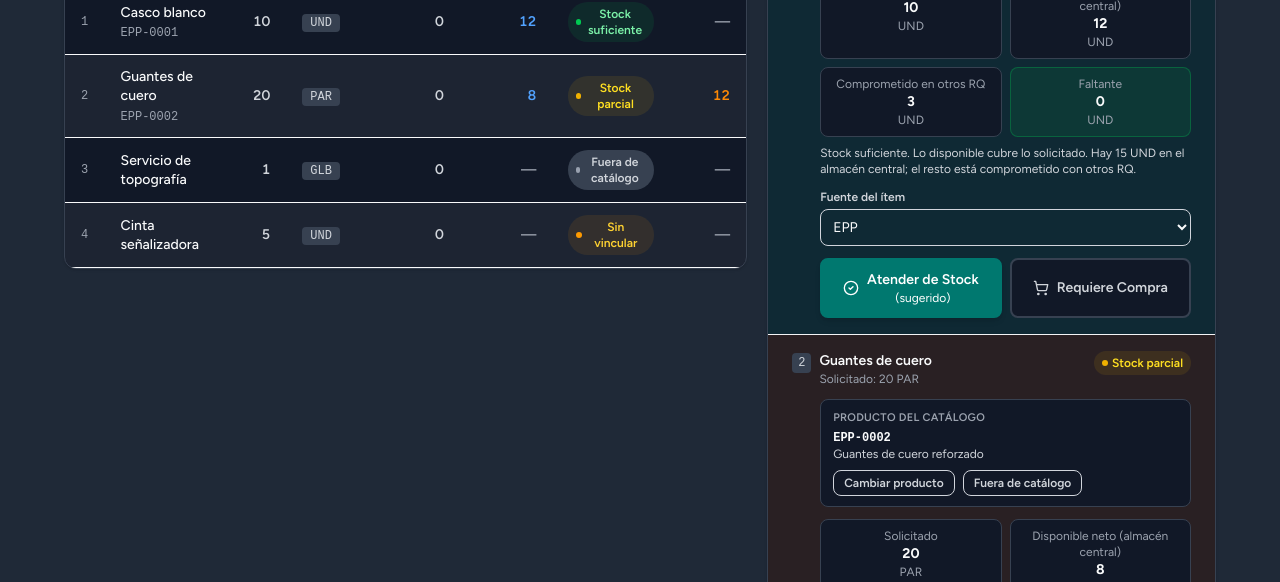
Test: LogisticsActionPage — stock sin cobertura completa (aviso, no bloqueo) › si marca "todo de stock" con ítems no cubiertos avisa en pantalla y pide confirmación explícita
(page scrolled)
Click the button "Atender de Stock (sugerido)": (911, 288) [820,258,1002,318]
(page scrolled)
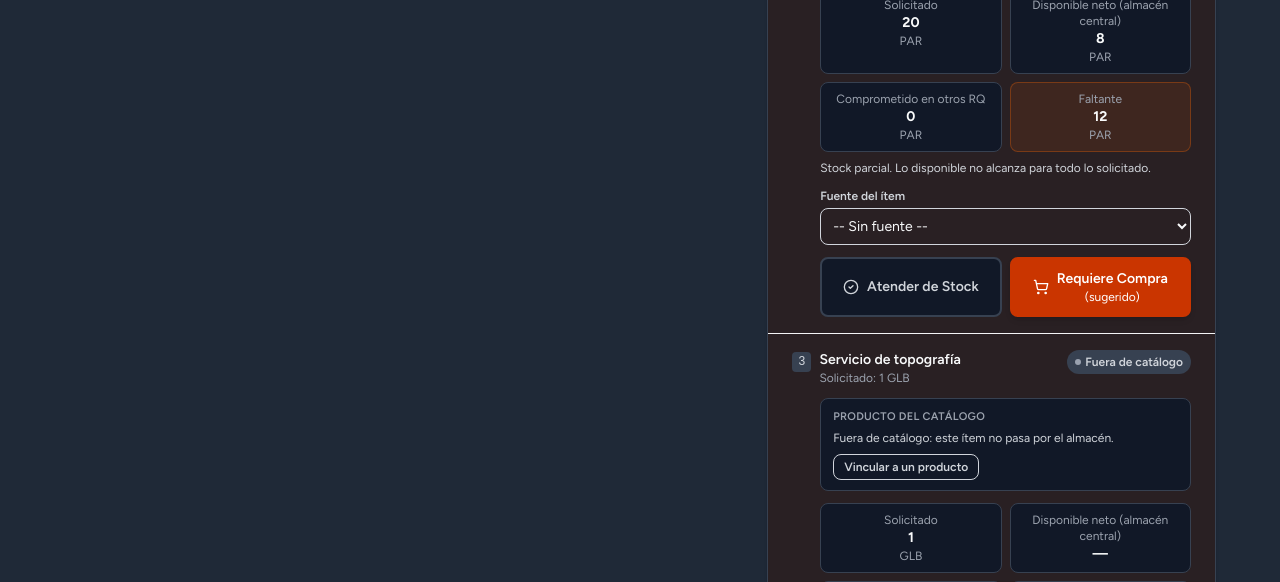
Click the button "Atender de Stock": (911, 287) [820,257,1002,317]
(page scrolled)
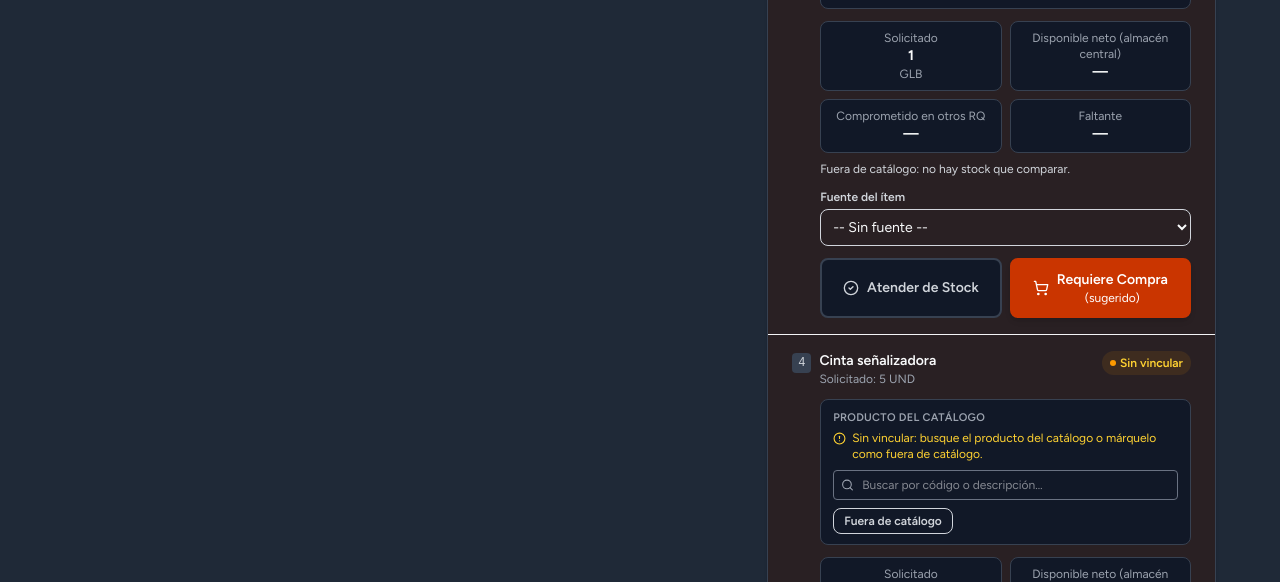
Click the button "Atender de Stock": (911, 288) [820,258,1002,318]
(page scrolled)
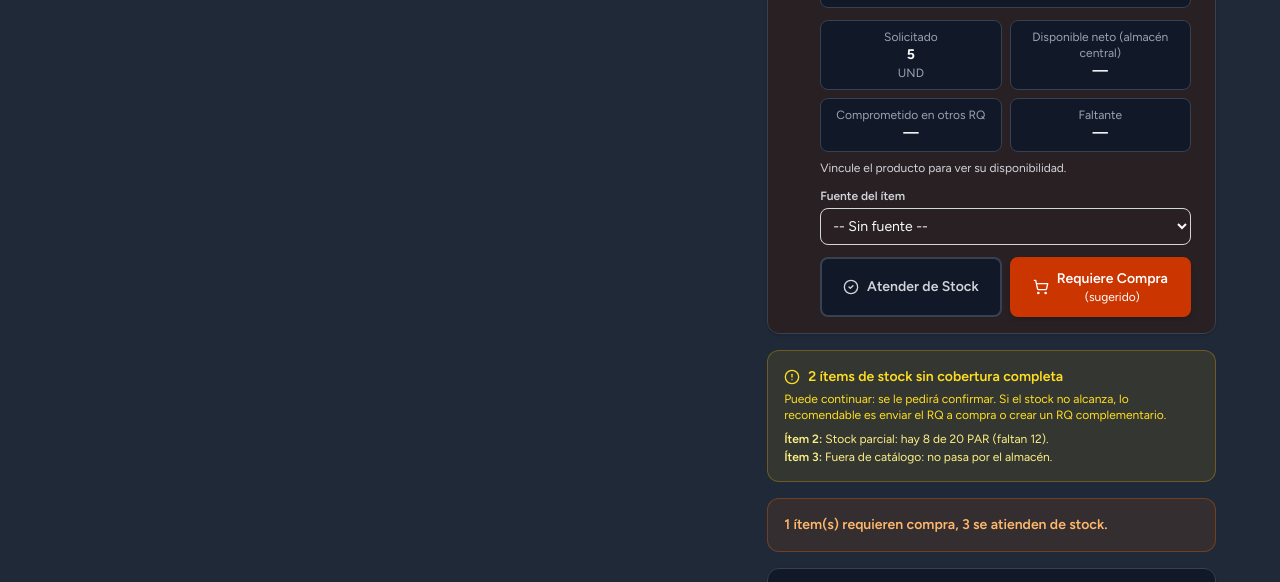
Click the button "Atender de Stock": (911, 287) [820,257,1002,317]
(page scrolled)
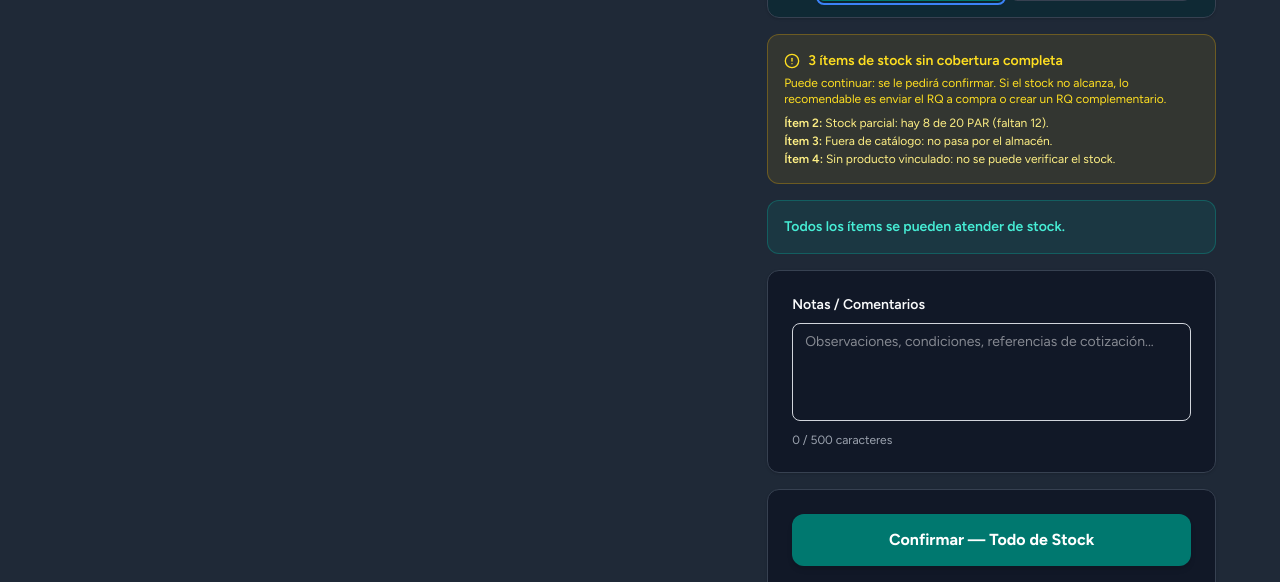
Now the list item "Ítem 2: Stock parcial: hay 8 de 20 PAR (faltan 12)." is shown, box [784,116,1049,130]
Now the list item "Ítem 3: Fuera de catálogo: no pasa por el almacén." is shown, box [784,134,1052,148]
Now the text "3 ítems de stock sin cobertura completa" is shown, box [784,52,1063,69]
Click the button "Confirmar — Todo de Stock": (992, 540) [792,514,1191,566]
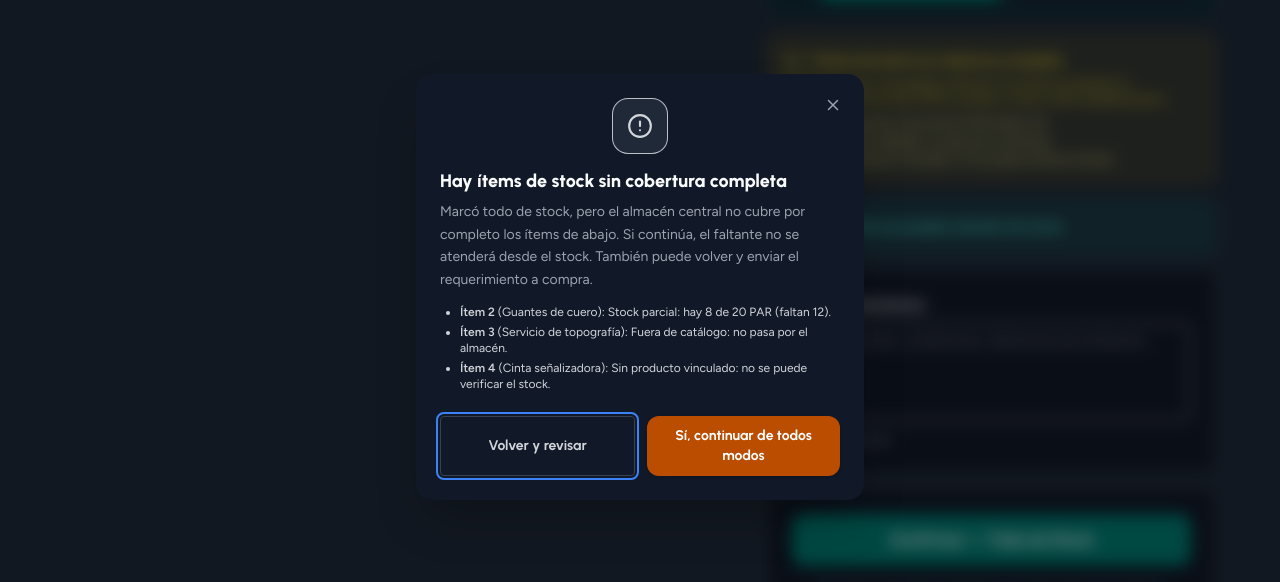
Now the dialog shows "Hay ítems de stock sin cobertura completa", box [440,170,787,192]
Now the text "Ítem 2" is shown, box [460,305,495,319]
Now the text "Ítem 3" is shown, box [460,325,494,339]
